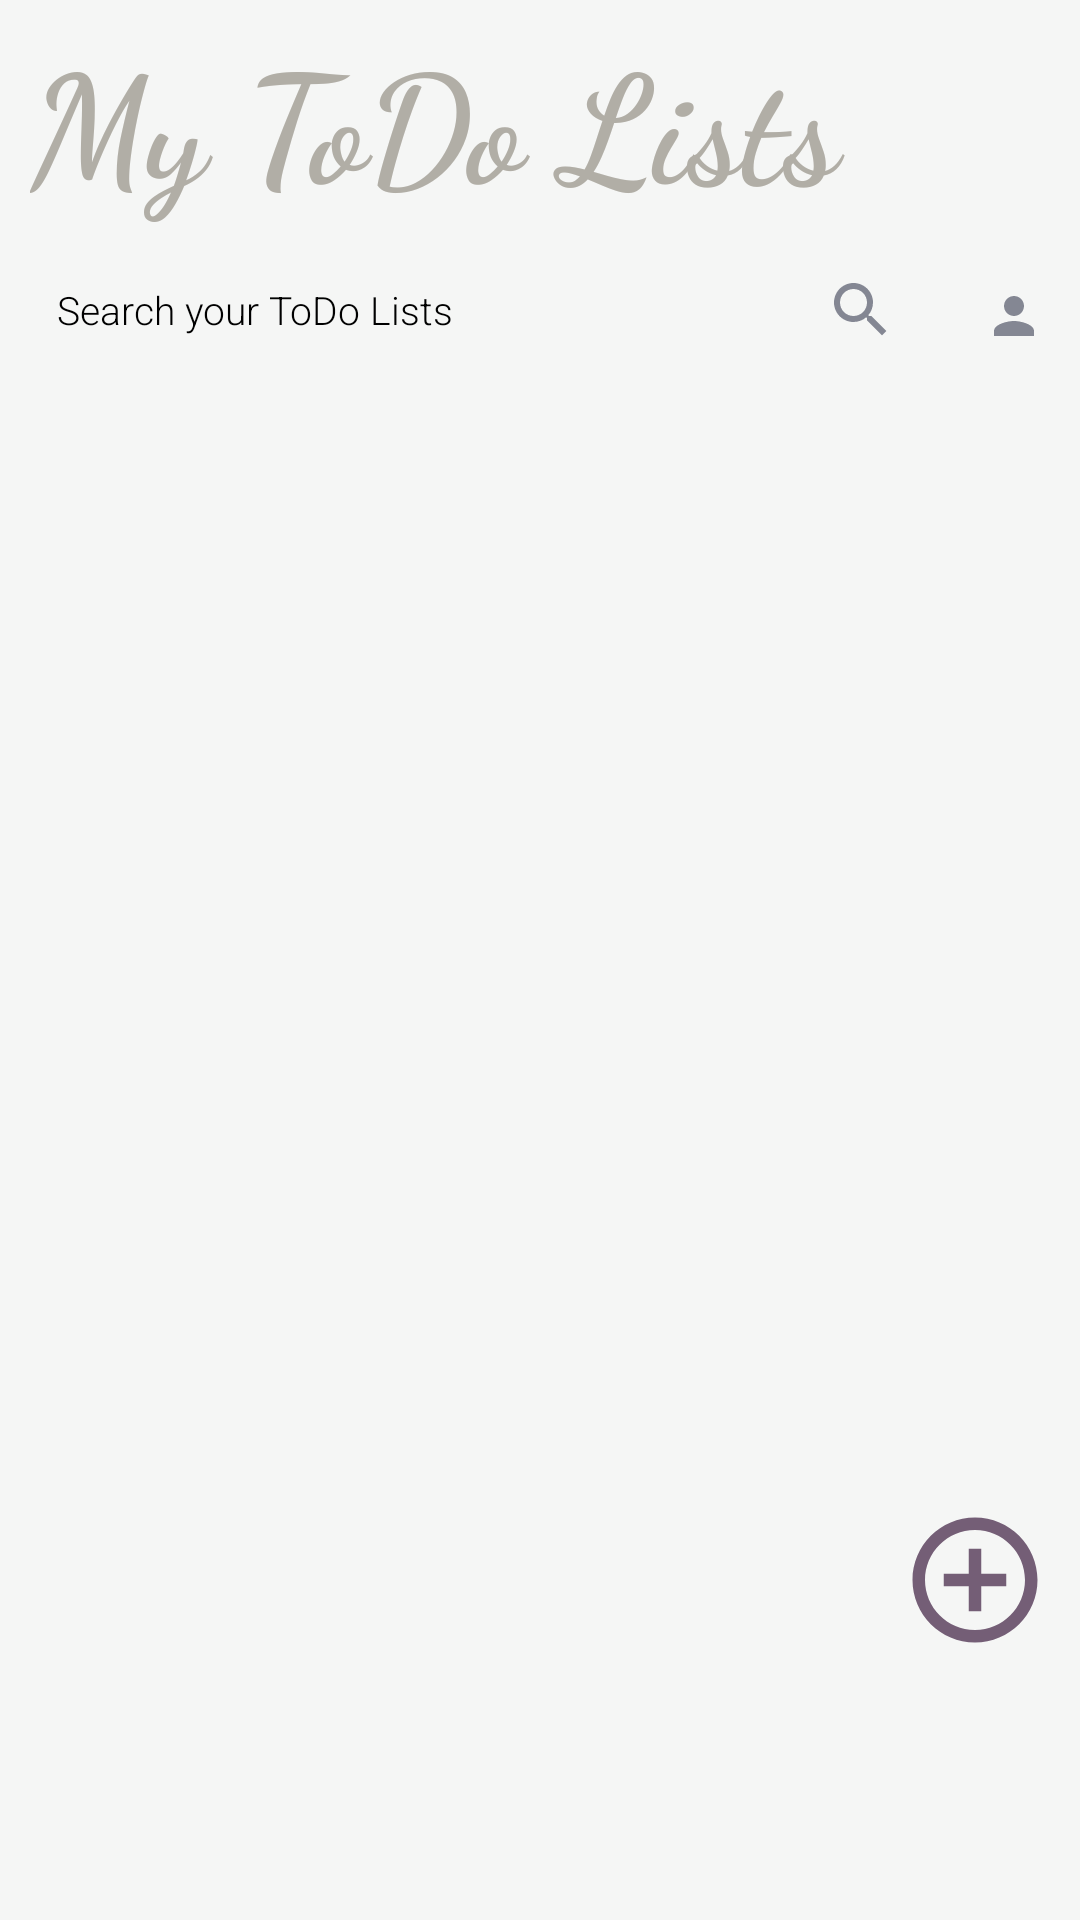

Icons on this 1080w x 1920h Android screen, each with the point to tap as (x,y):
add circle: (975,1580)
person: (1014,316)
